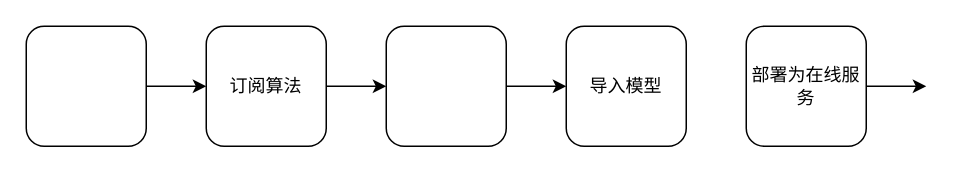
Some shapes in this 965 by 173 pixel diagram are drawn without their labels. The centre of each missing label's shape, as x and y in pixels:
使用订阅算法创建训练作业: point 445,85
数据准备: point 85,85
